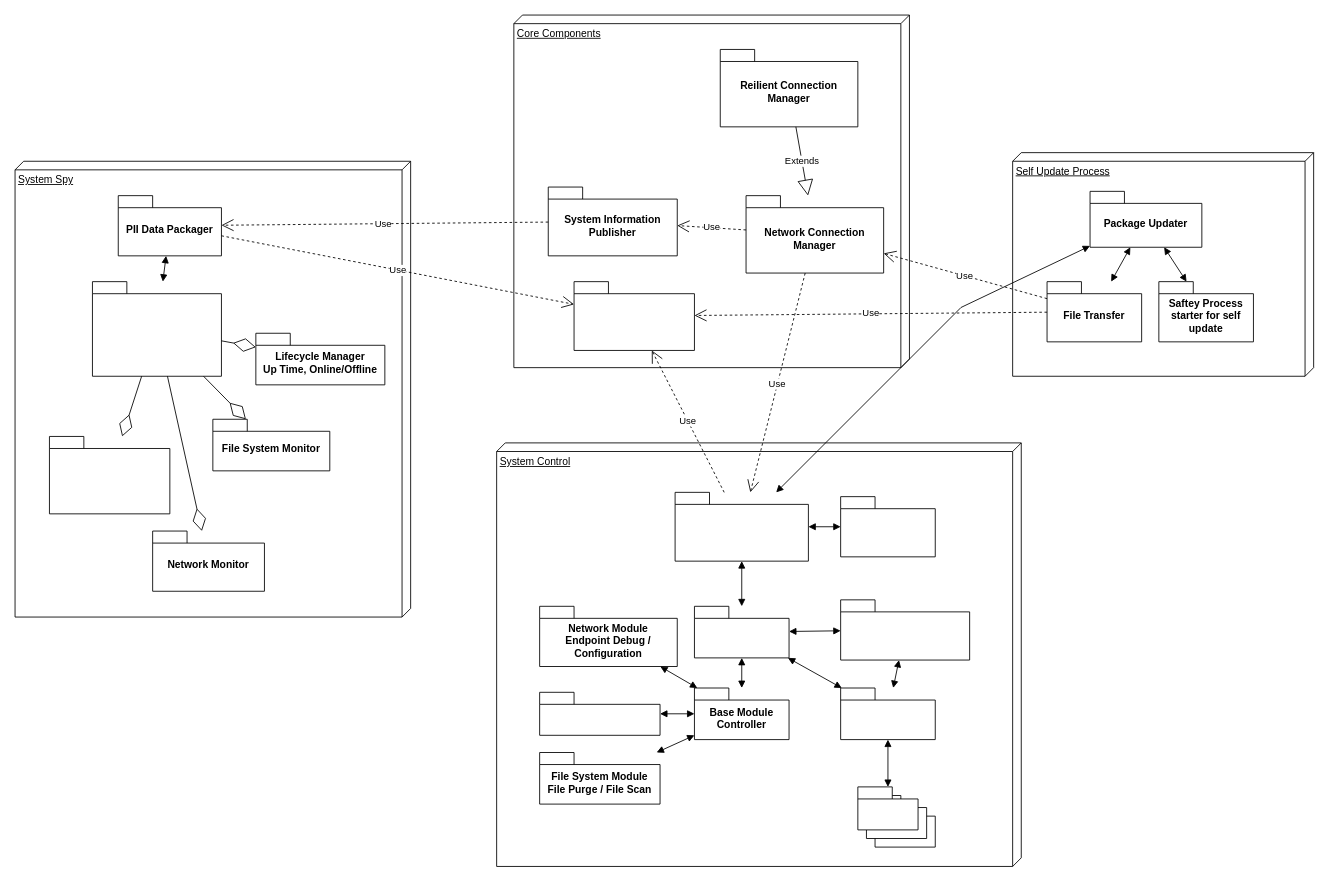
This 1329x882 diagram has some shape labels left out. Each missing label, with the centre of its shape:
"C2 Command Translator" goes at point 887,526.
"Custom Module Controller" goes at point 887,713.
"Data Security Implementation" goes at point 633,315.
"Dynamic Module Loader" goes at point 905,629.
"Dynamic Modules" goes at point 887,808.
"Hardware Spy (CPU / RAM / GPU / HEAT)" goes at point 109,475.
"Lifecycle Module Stop / Restart System" goes at point 599,713.
"System C2 Receiver" goes at point 741,526.
"System Control Handler" goes at point 741,631.
"System State Manager" goes at point 156,328.
